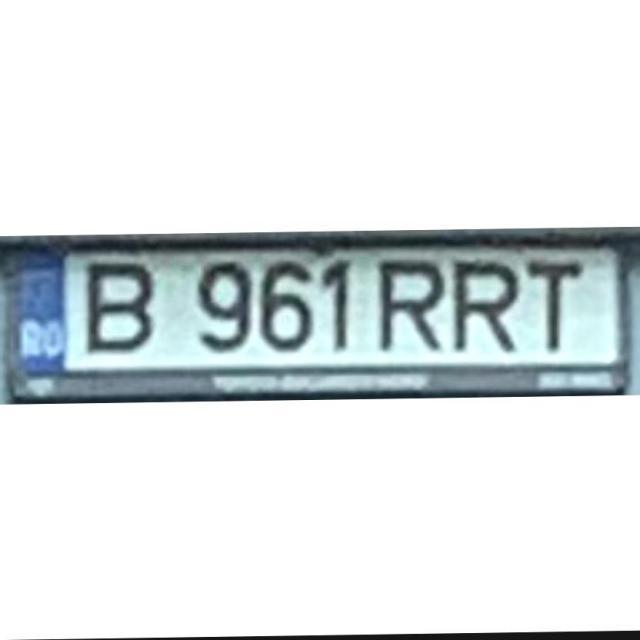license-plates: (18, 249, 621, 375)
